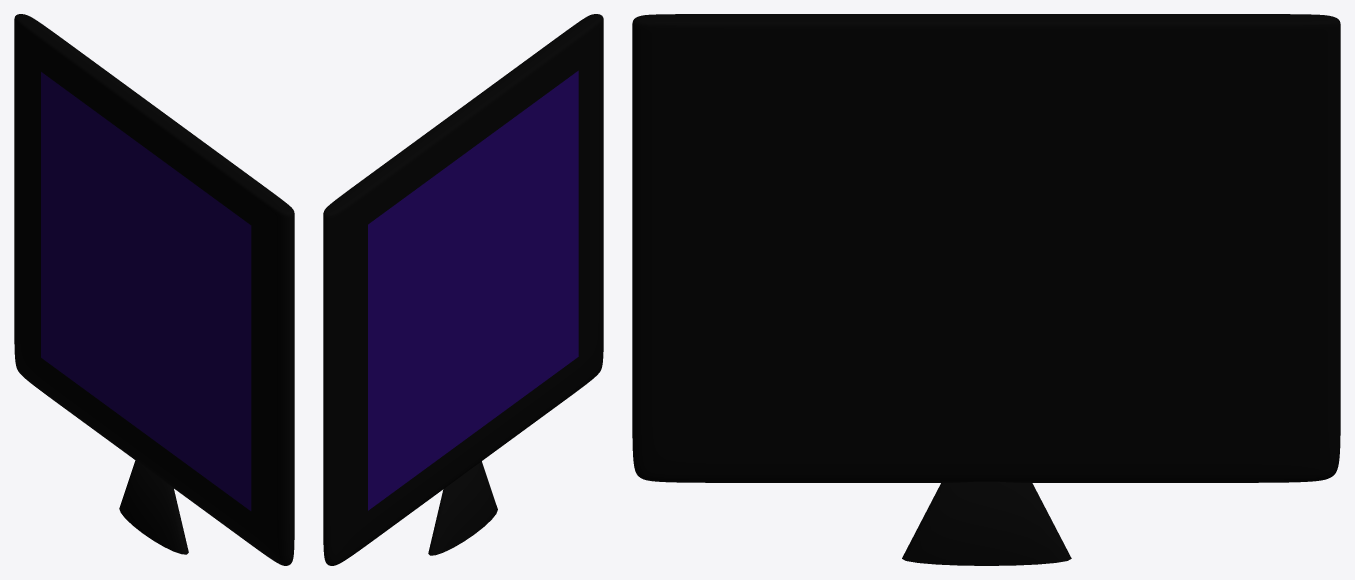
Rendered from TVMonitor.dae.
3 renders of one model, left to right at view 1: azimuth 30°, elevation 25°; view 2: azimuth 150°, elevation 25°; view 3: azimuth 270°, elevation 25°, orthographic. The views are drawn at different scales.
Visible parts, largest first — view 1: nurbsToPoly1, pCube1, pCone1; view 2: nurbsToPoly1, pCube1, pCone1; view 3: pCube1, pCone1.
Boxes of the visible parts, x1,y1,x2,y2 form: nurbsToPoly1: [41, 72, 251, 510]; pCube1: [14, 14, 294, 565]; pCone1: [119, 460, 188, 554]; nurbsToPoly1: [368, 70, 578, 510]; pCube1: [323, 14, 603, 565]; pCone1: [428, 461, 497, 555]; pCube1: [632, 14, 1340, 482]; pCone1: [902, 481, 1071, 565].
Bounding box in the file's own units: 0.4044 × 7.03 × 8.33.
